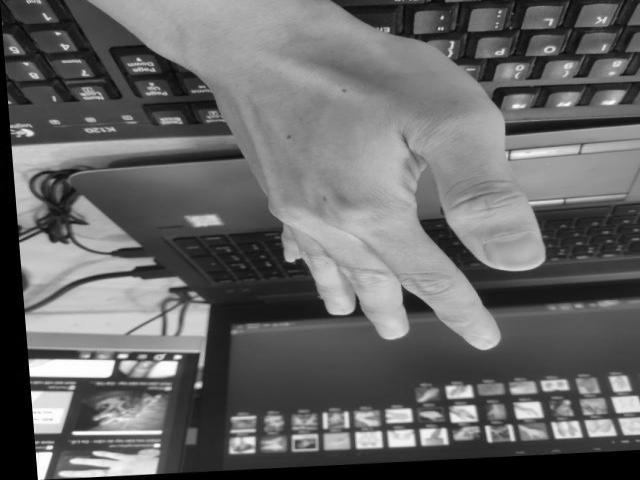not-gloved: (200, 0, 547, 351)
